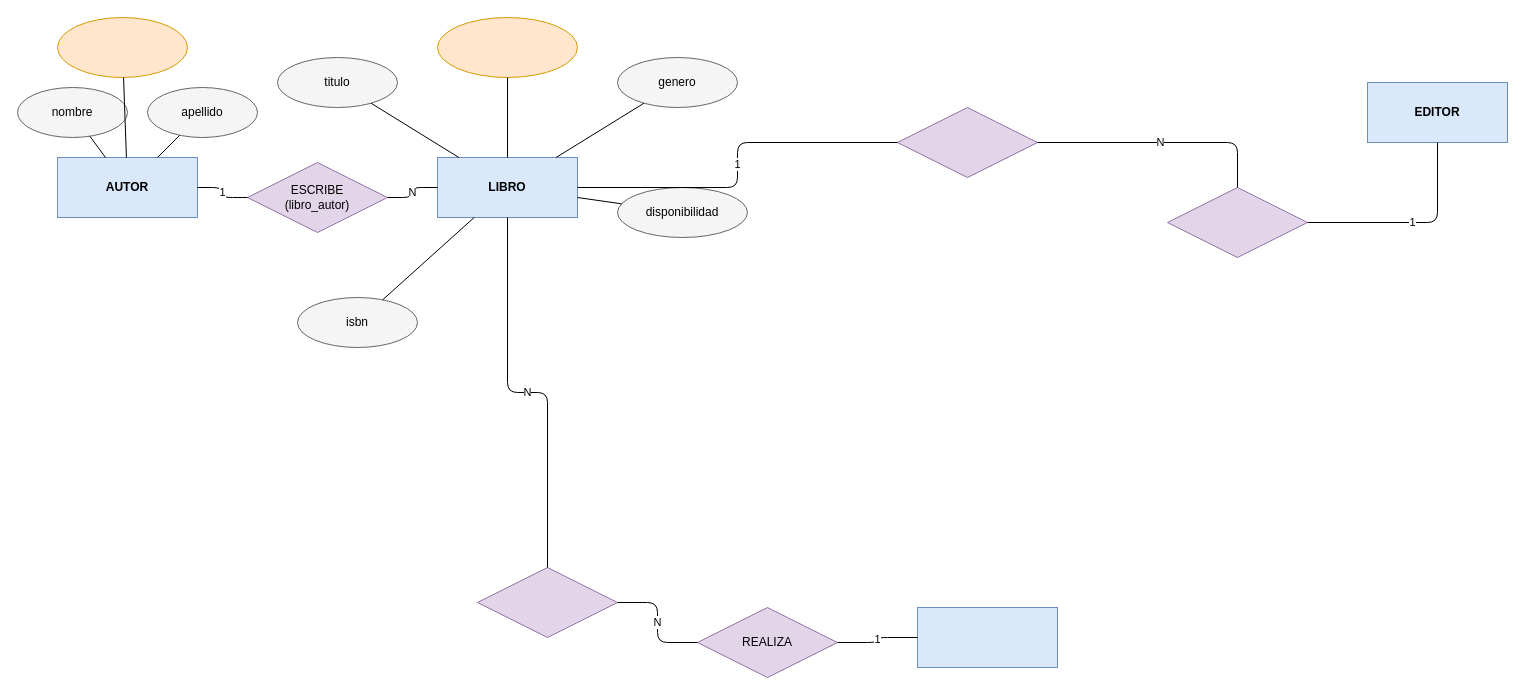
Some shapes in this 1525 by 695 pixel diagram are drawn without their labels. Each missing label, with the centre of its shape:
"id_autor (PK)" goes at pixel 122 47.
"id_libro (PK)" goes at pixel 507 47.
"MIEMBRO" goes at pixel 987 637.
"PUBLICADO POR" goes at pixel 1237 222.
"SE PRESTA" goes at pixel 547 602.
"TIENE EDICION" goes at pixel 967 142.
